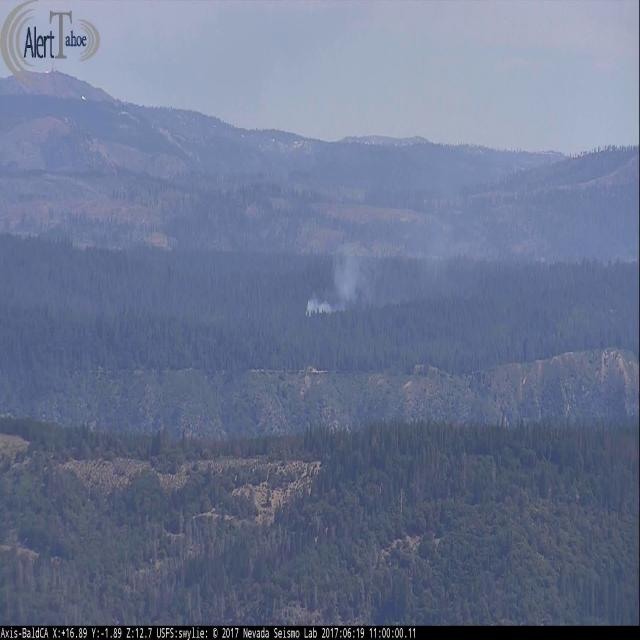smoke: (302, 209, 458, 312)
